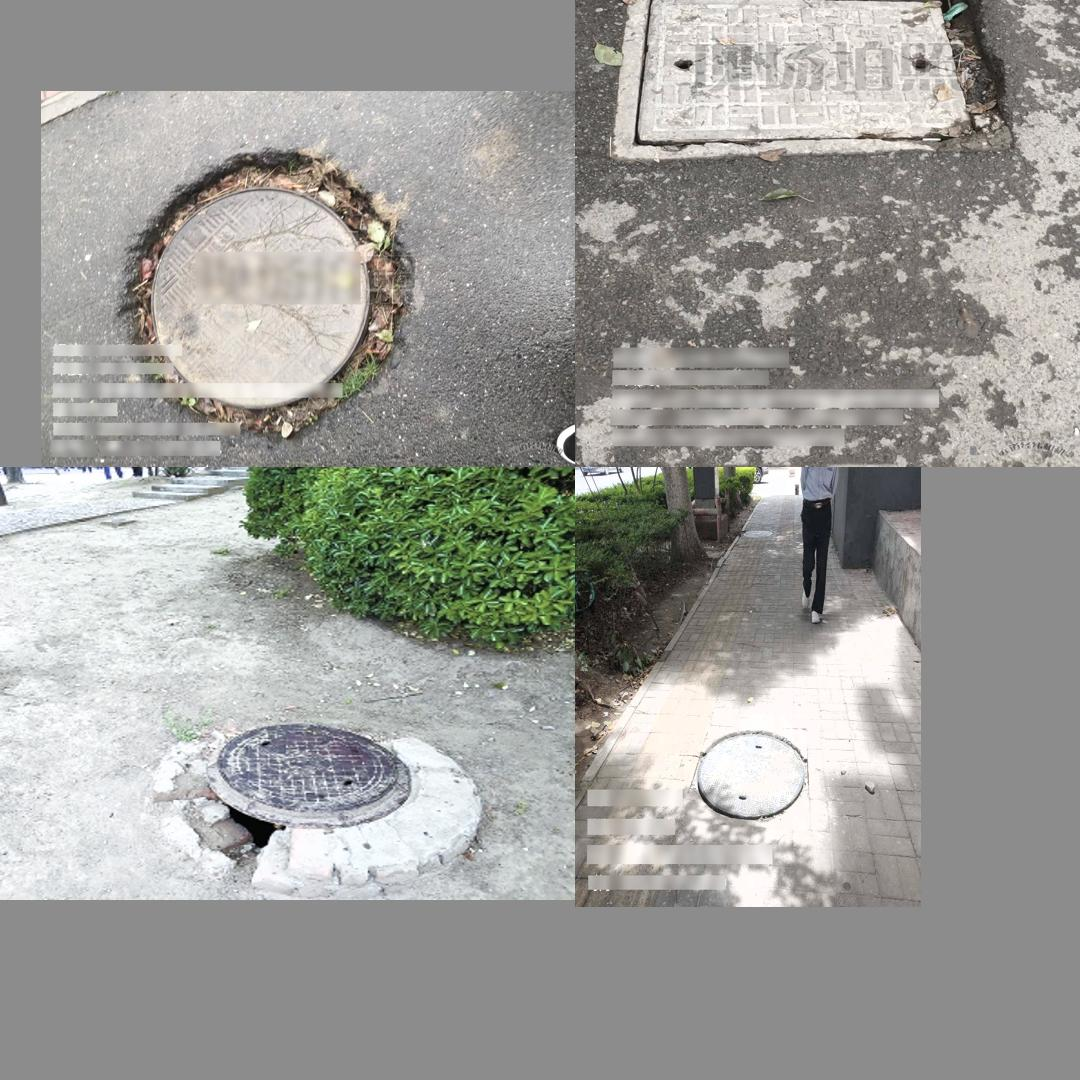circle: (115, 151, 414, 434), (617, 0, 1016, 159), (134, 717, 491, 879), (694, 729, 807, 822)
